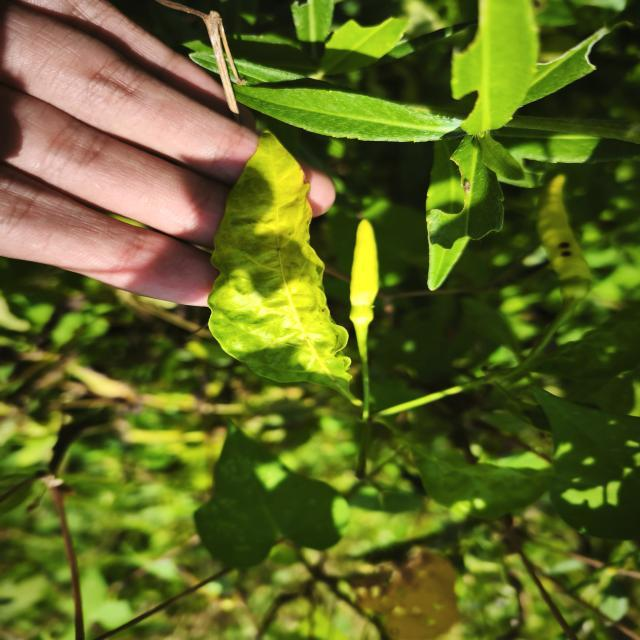Virus Kuning: (205, 130, 357, 402)
